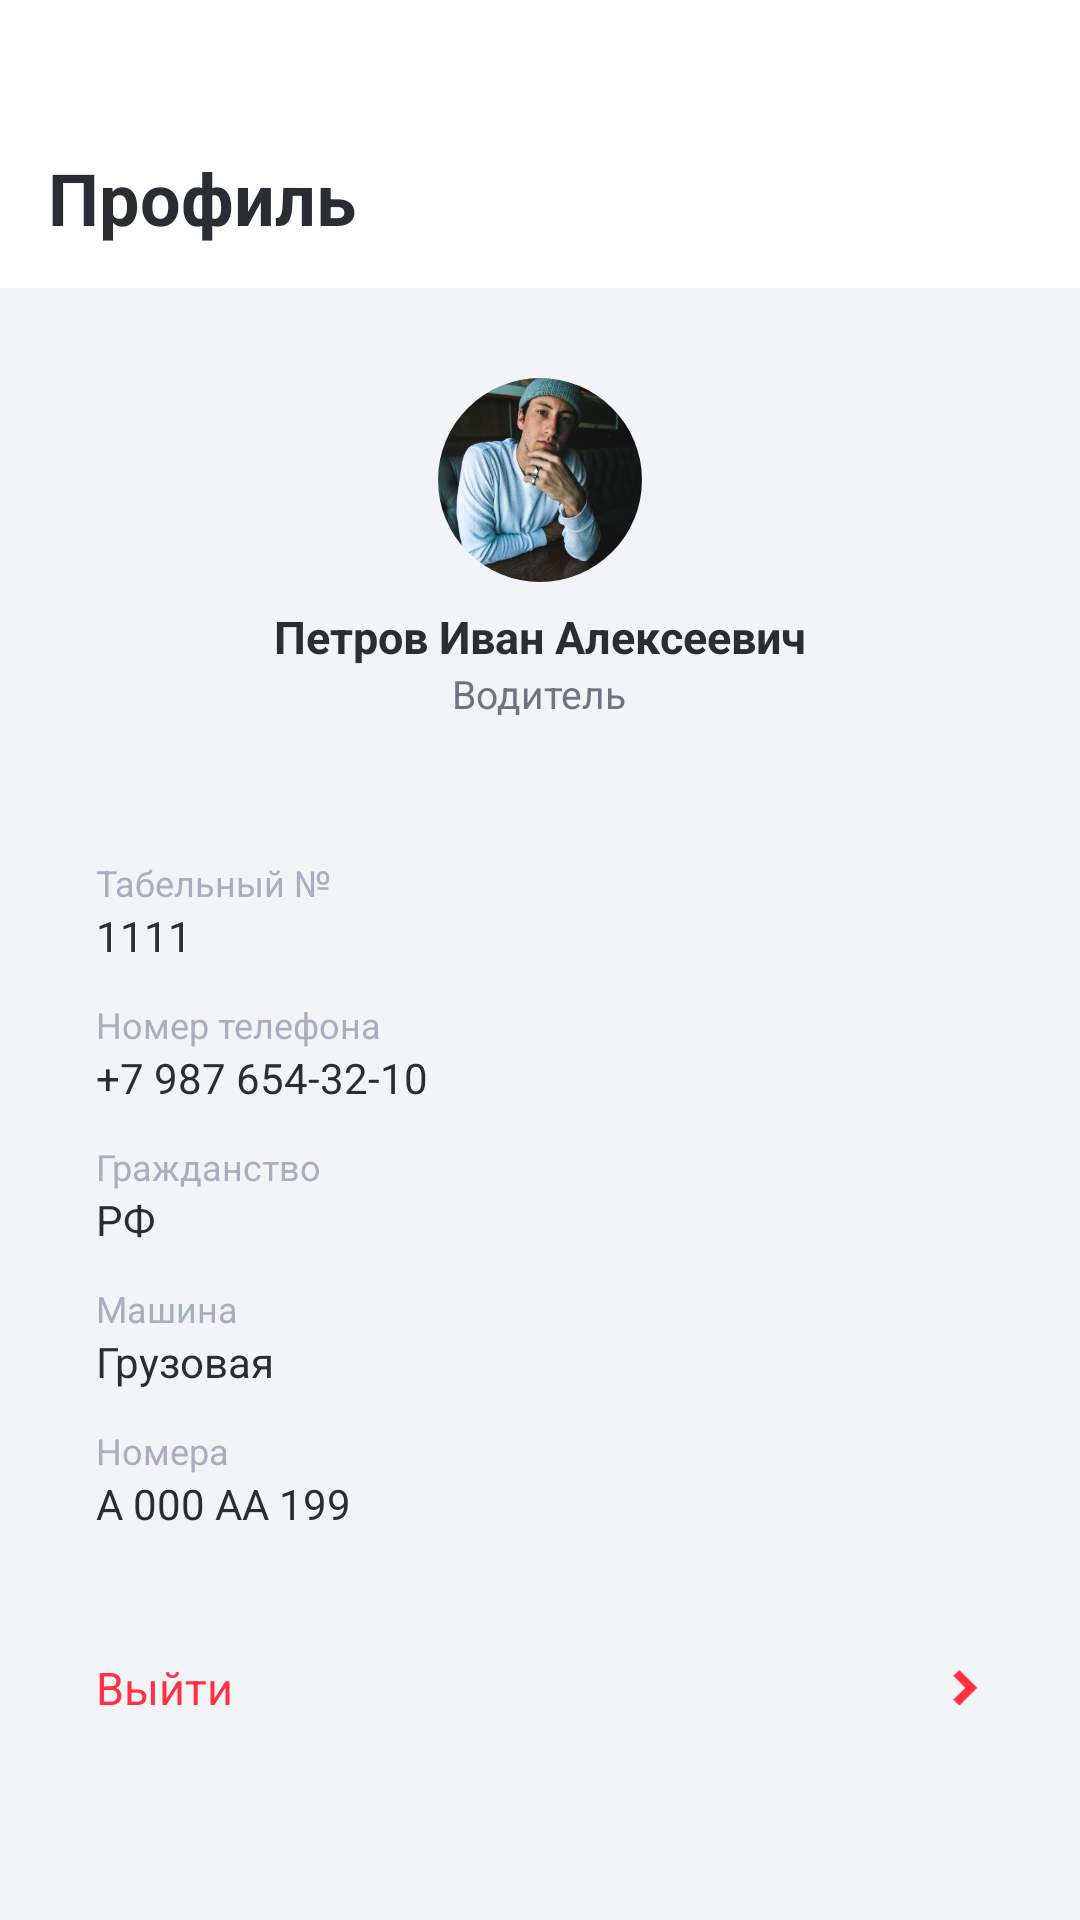

Where to tap for icons on this 1080px×1920px app screen, as (x,y):
arrow next: (965,1688)
